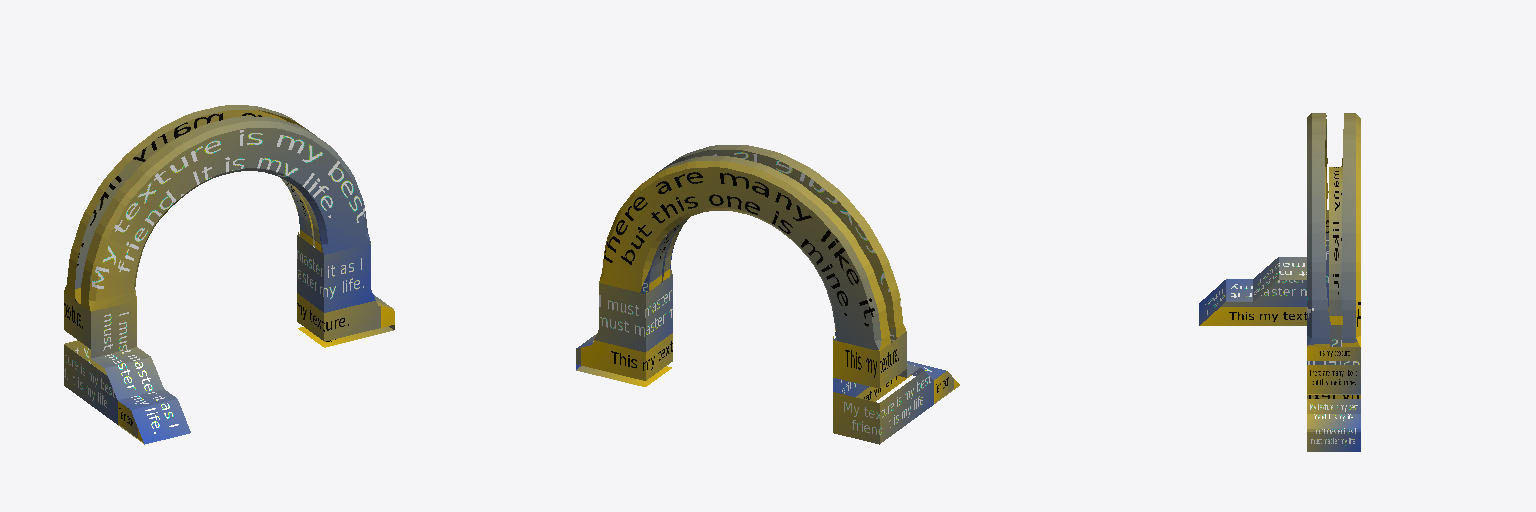
3 views of the same model, side by side, from view 1: azimuth 30°, elevation 25°; view 2: azimuth 150°, elevation 25°; view 3: azimuth 270°, elevation 25° (orthographic).
Parts seen in each view (by area): view 1: AsymetricArc_Cube; view 2: AsymetricArc_Cube; view 3: AsymetricArc_Cube.
Part boxes in pixels (x1,y1,x2,y2): AsymetricArc_Cube: (64, 105, 394, 444); AsymetricArc_Cube: (576, 145, 959, 444); AsymetricArc_Cube: (1199, 113, 1360, 451).
Size of the model in its own units: 130 by 99.56 by 60.06.
Materials: 1 (1 with a texture image).